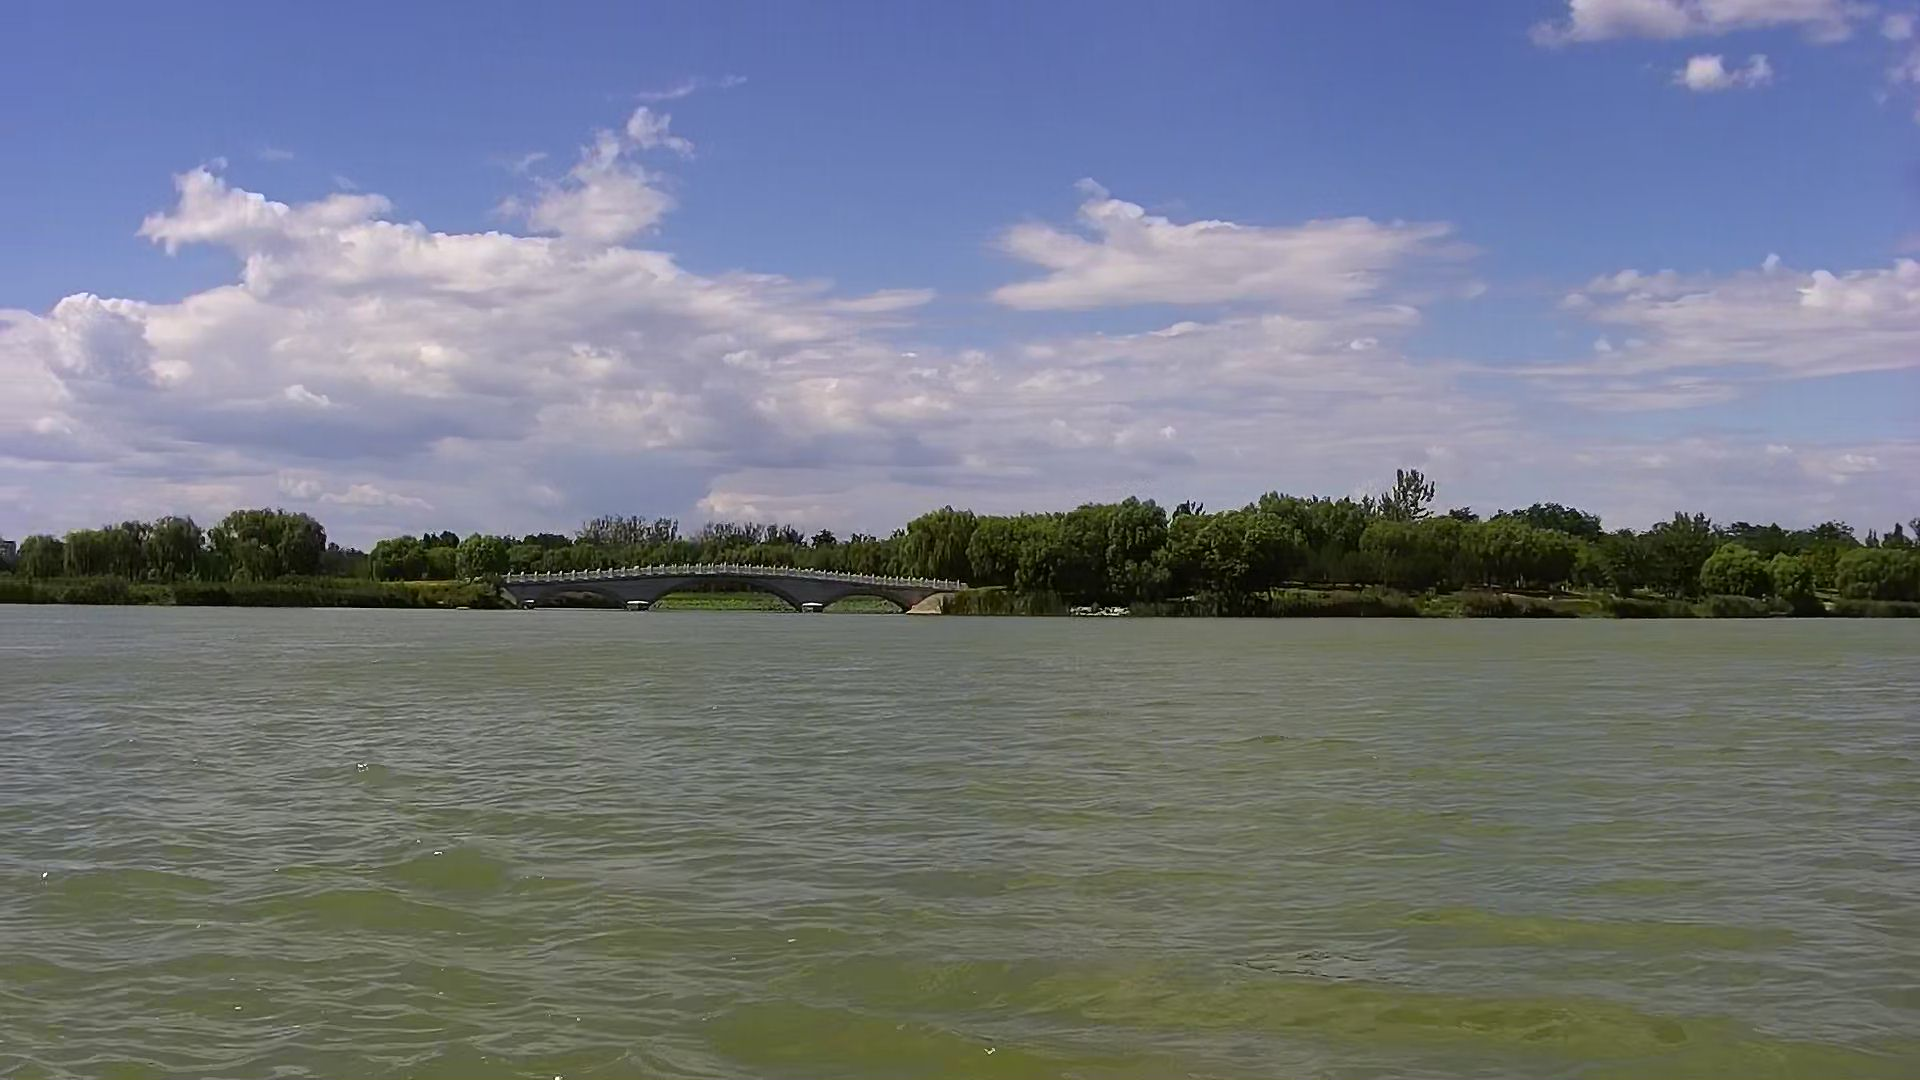bridge: (492, 558, 1015, 621)
